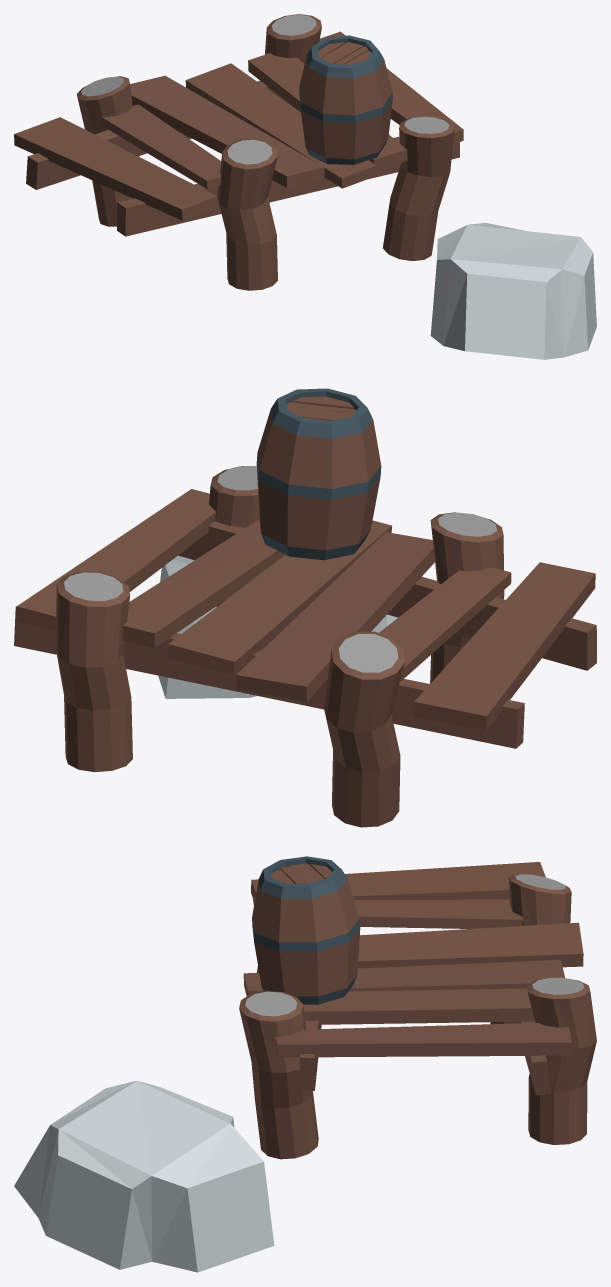
File: Woods Rock Cluster.glb
3 renders of one model, top to bottom at view 1: azimuth 30°, elevation 25°; view 2: azimuth 150°, elevation 25°; view 3: azimuth 270°, elevation 25°, orthographic. The views are drawn at different scales.
Visible parts, largest first — view 1: mesh266667135, group1733637446, mesh1146194953_1, mesh1146194953, mesh266667135_1; view 2: mesh266667135, mesh1146194953_1, mesh1146194953, mesh266667135_1, group1733637446; view 3: mesh266667135, group1733637446, mesh1146194953_1, mesh1146194953, mesh266667135_1.
Boxes of the visible parts, bbox=[...] form: mesh266667135: bbox=[14, 14, 463, 290]; group1733637446: bbox=[430, 223, 596, 359]; mesh1146194953_1: bbox=[299, 42, 392, 159]; mesh1146194953: bbox=[299, 35, 392, 164]; mesh266667135_1: bbox=[81, 14, 449, 164]; mesh266667135: bbox=[14, 466, 596, 827]; mesh1146194953_1: bbox=[256, 396, 381, 550]; mesh1146194953: bbox=[256, 388, 381, 560]; mesh266667135_1: bbox=[64, 466, 496, 672]; group1733637446: bbox=[158, 555, 397, 698]; mesh266667135: bbox=[239, 862, 596, 1159]; group1733637446: bbox=[14, 1080, 274, 1272]; mesh1146194953_1: bbox=[252, 863, 360, 996]; mesh1146194953: bbox=[252, 856, 360, 1004]; mesh266667135_1: bbox=[245, 874, 583, 1016].
Bounding box in the file's own units: 1.83 × 1.13 × 1.96.
